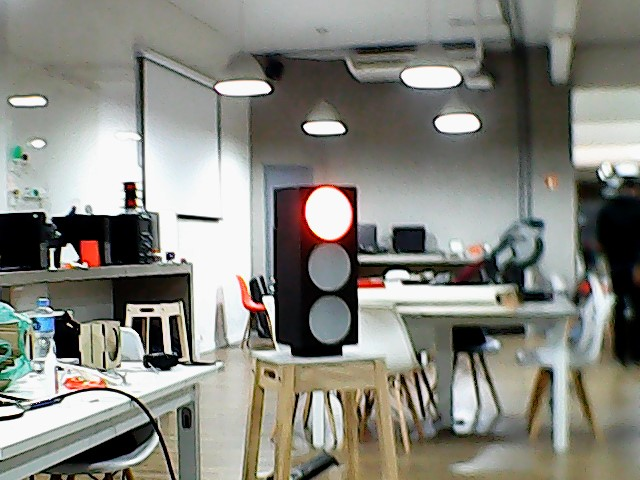vermelho: (274, 185, 363, 348)
